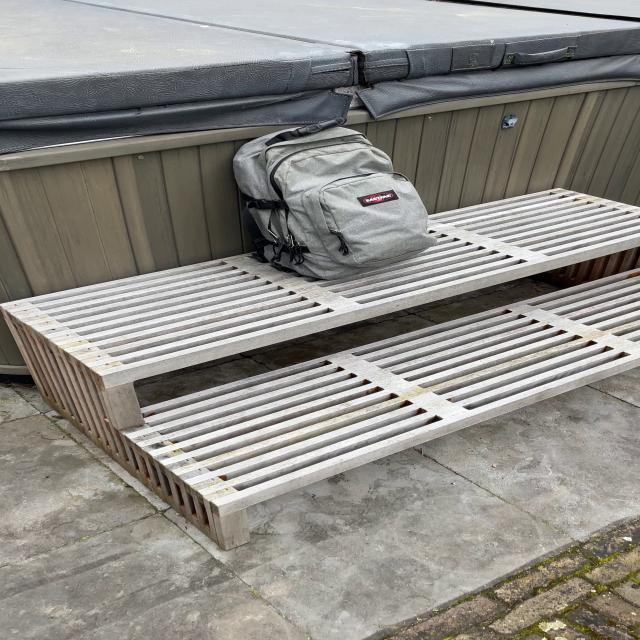backpack: (223, 120, 443, 280)
